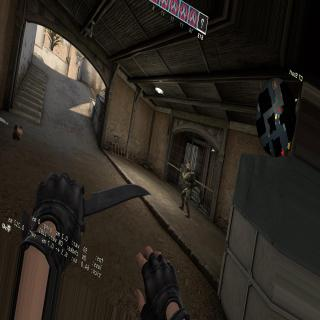CT-Body: (177, 162, 197, 219)
